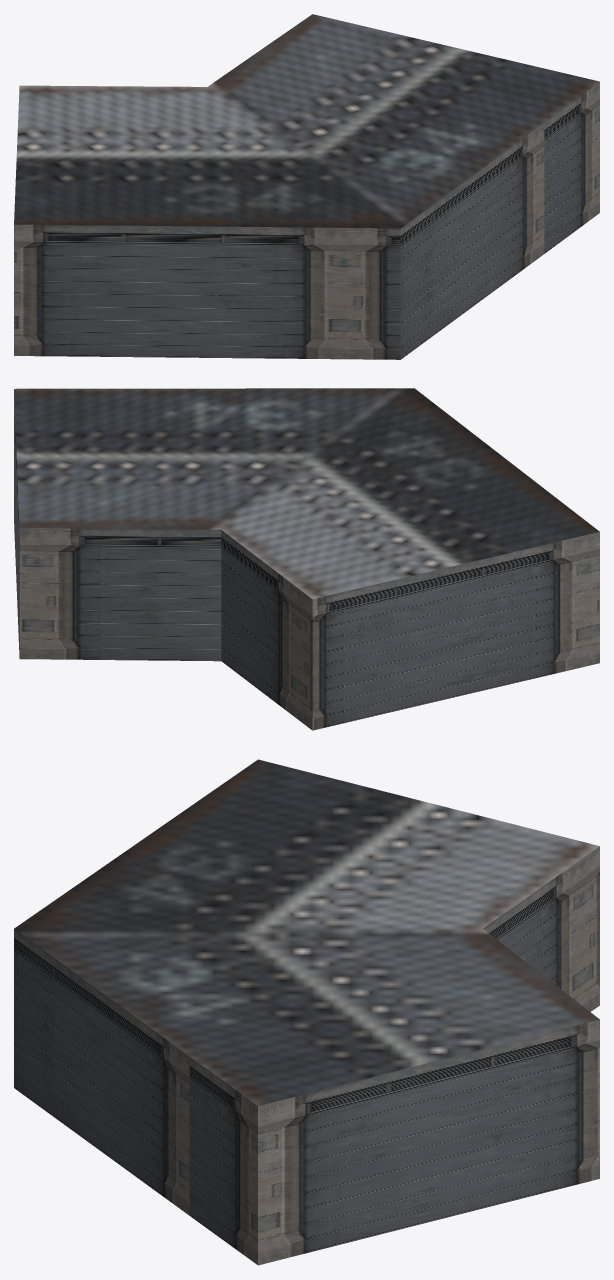
The model's file is hangar_medium_34.glb.
The picture shows the model from 3 angles, top to bottom: view 1: azimuth 30°, elevation 25°; view 2: azimuth 150°, elevation 25°; view 3: azimuth 270°, elevation 25°; orthographic projection. The views are drawn at different scales.
Visible parts, largest first — view 1: buildings/saxarba/hangar_medium/hangar_medium_34; view 2: buildings/saxarba/hangar_medium/hangar_medium_34; view 3: buildings/saxarba/hangar_medium/hangar_medium_34.
Part boxes in pixels (bbox=[...]): buildings/saxarba/hangar_medium/hangar_medium_34: bbox=[14, 14, 599, 359]; buildings/saxarba/hangar_medium/hangar_medium_34: bbox=[14, 388, 599, 730]; buildings/saxarba/hangar_medium/hangar_medium_34: bbox=[14, 759, 599, 1265].
Bounding box in the file's own units: 84 × 18 × 60.
